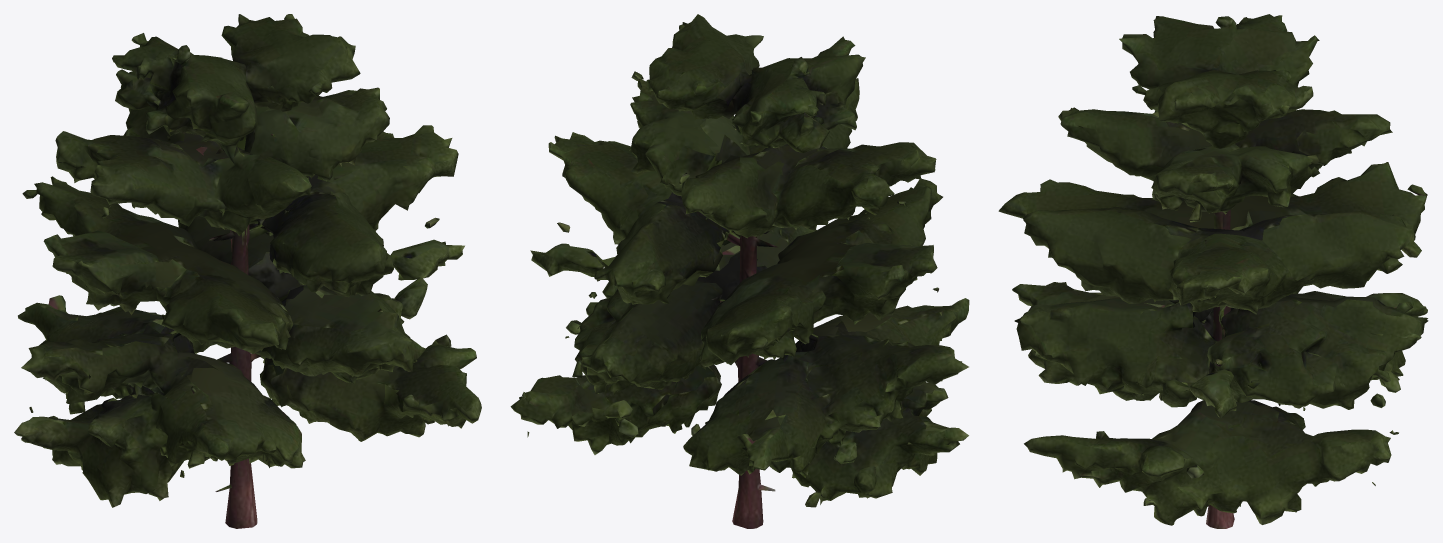
File: g-conifer.glb
The picture shows the model from 3 angles, left to right: view 1: azimuth 30°, elevation 25°; view 2: azimuth 150°, elevation 25°; view 3: azimuth 270°, elevation 25°; orthographic projection. The views are drawn at different scales.
Parts seen in each view (by area): view 1: world; view 2: world; view 3: world.
Boxes of the visible parts, box(x1,y1,x2,y2) form: world: box(14, 14, 481, 528); world: box(510, 14, 969, 528); world: box(998, 14, 1428, 528).
Size of the model in its own units: 1.91 by 1.99 by 1.61.
1 material, 1 textured.
